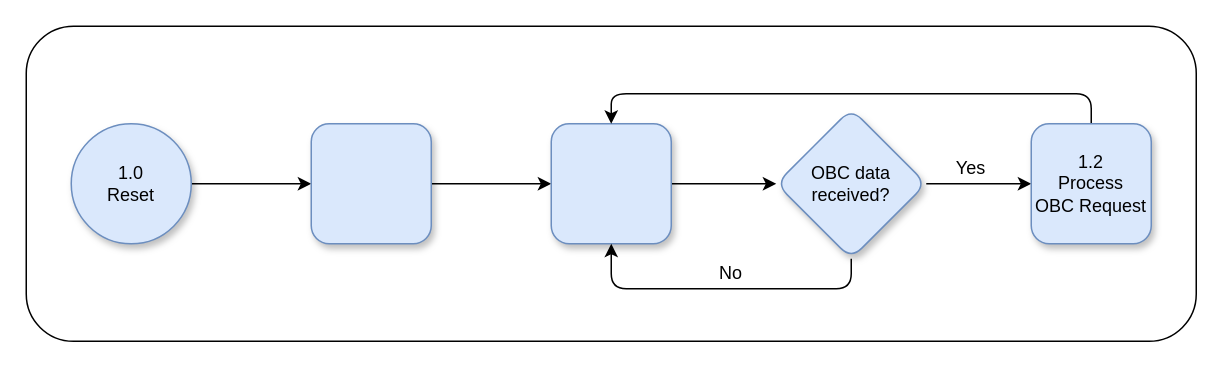
This 1223x368 diagram has some shape labels left out. The shapes that lost their labels are listed below. From the top down, each one's centre as x and y in pixels, then its label:
point (372, 185): 1.1 Peripheral Configuration
point (612, 185): Kick watchdog
